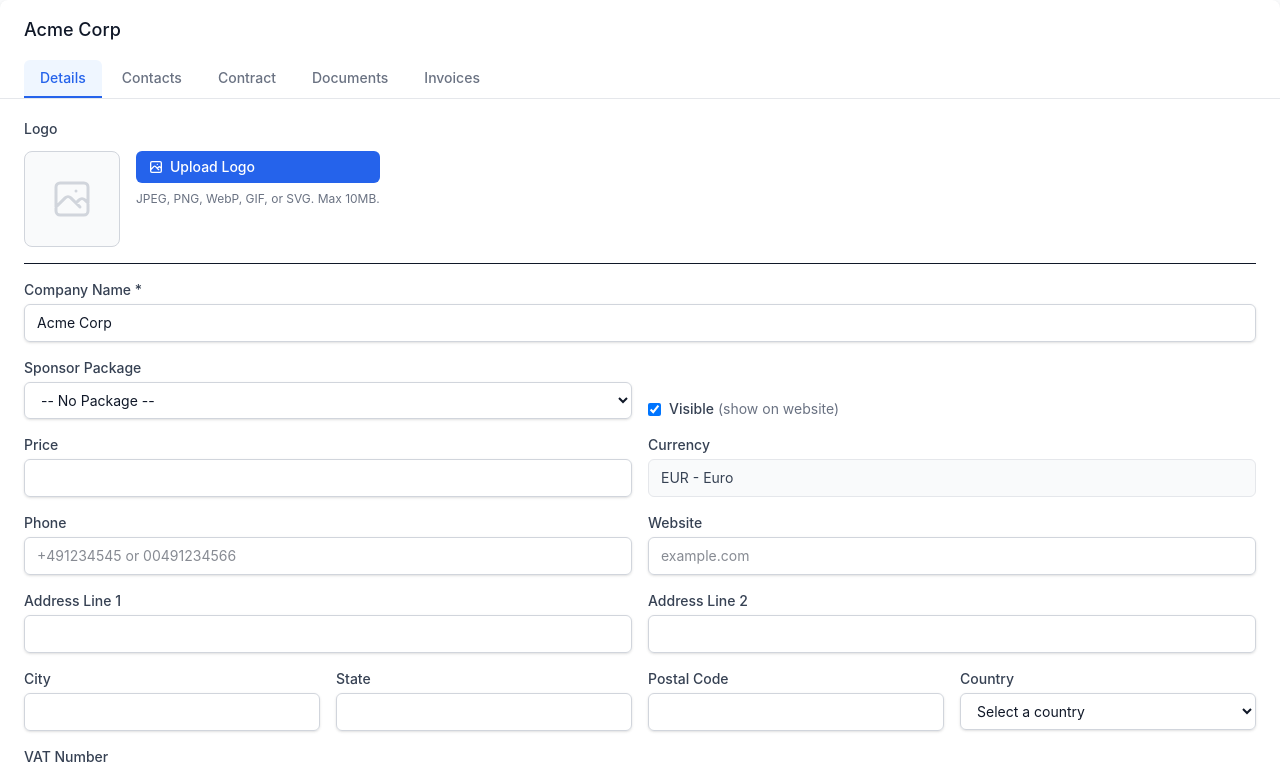
Scenario: SponsorDetailPanel › form interaction › shows phone error for invalid phone
The image size is (1280, 769).
Type "123invalid" into the field with placeholder "+491234545 or 00491234566" at (328, 556), box [24, 537, 632, 575]
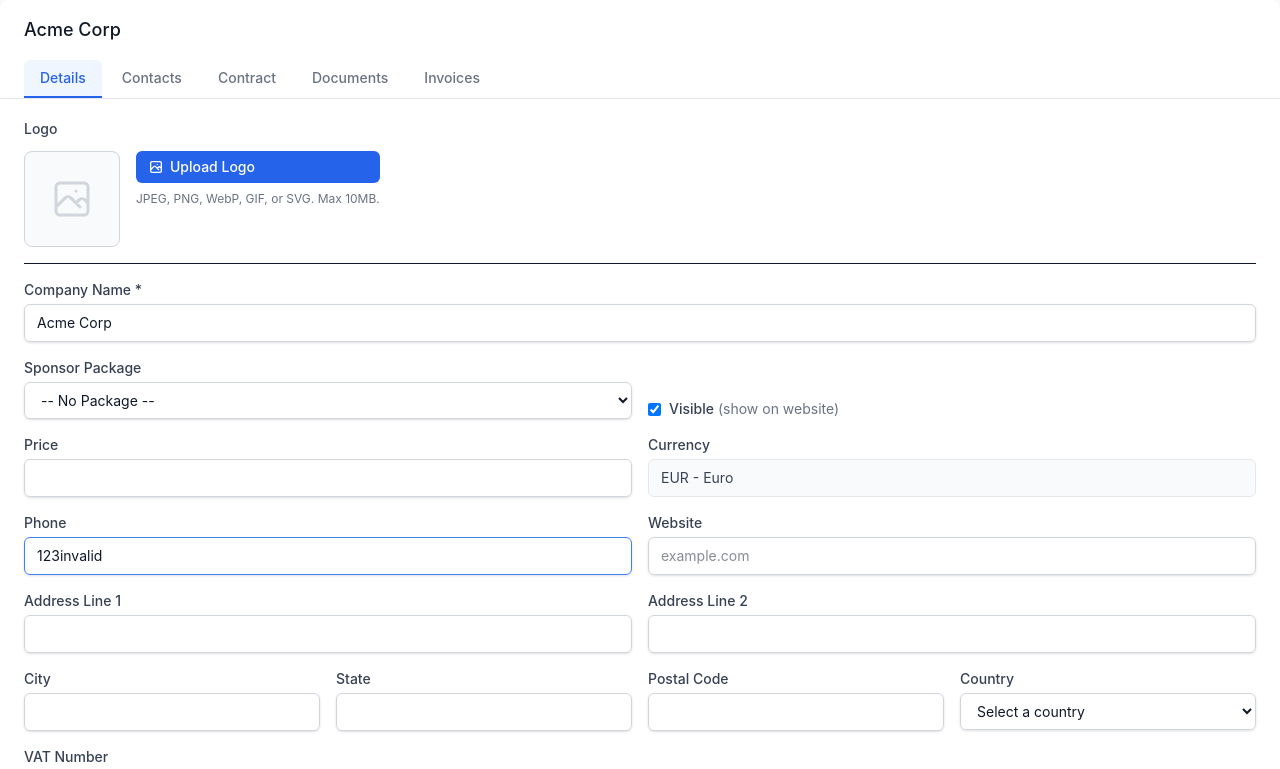
Leave the field with placeholder "+491234545 or 00491234566" below "Phone", box [24, 537, 632, 575]
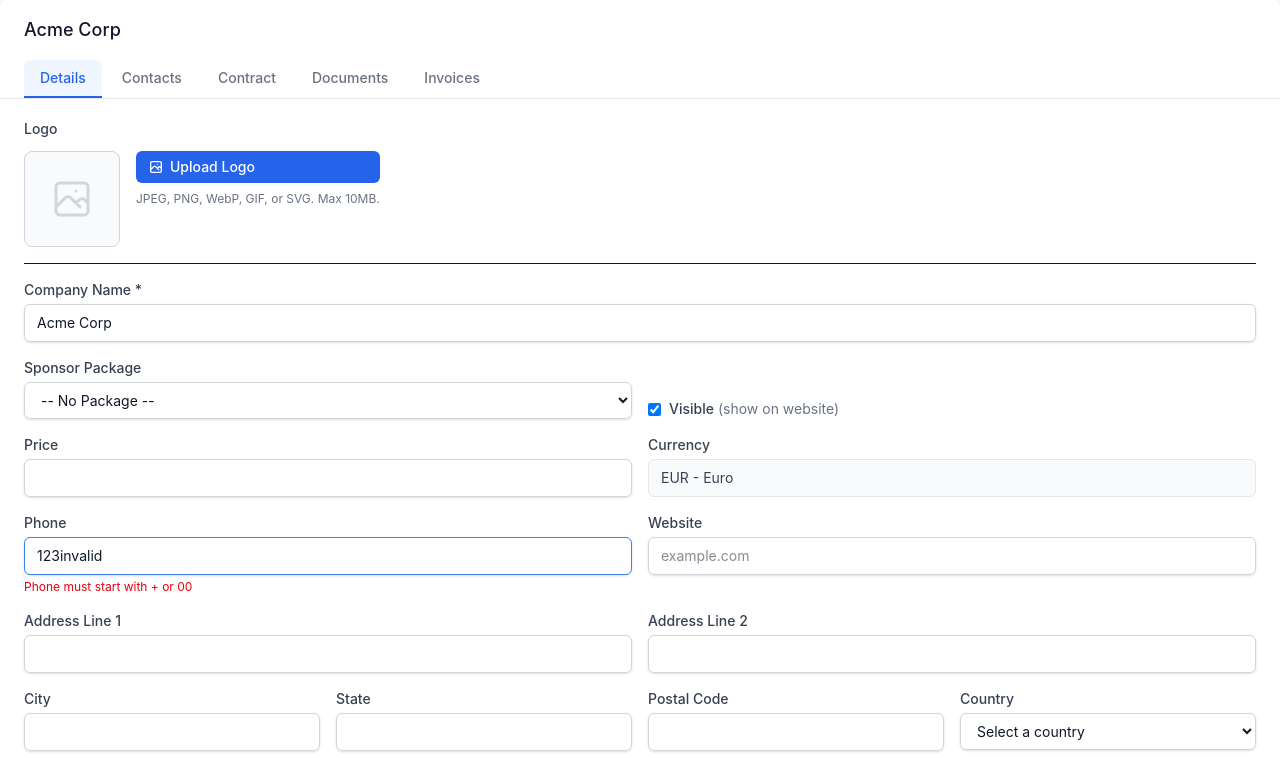
Now the text "Phone must start with + or 00" is shown, box [24, 579, 192, 594]
